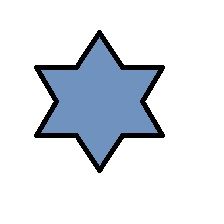star: (33, 30, 166, 173)
